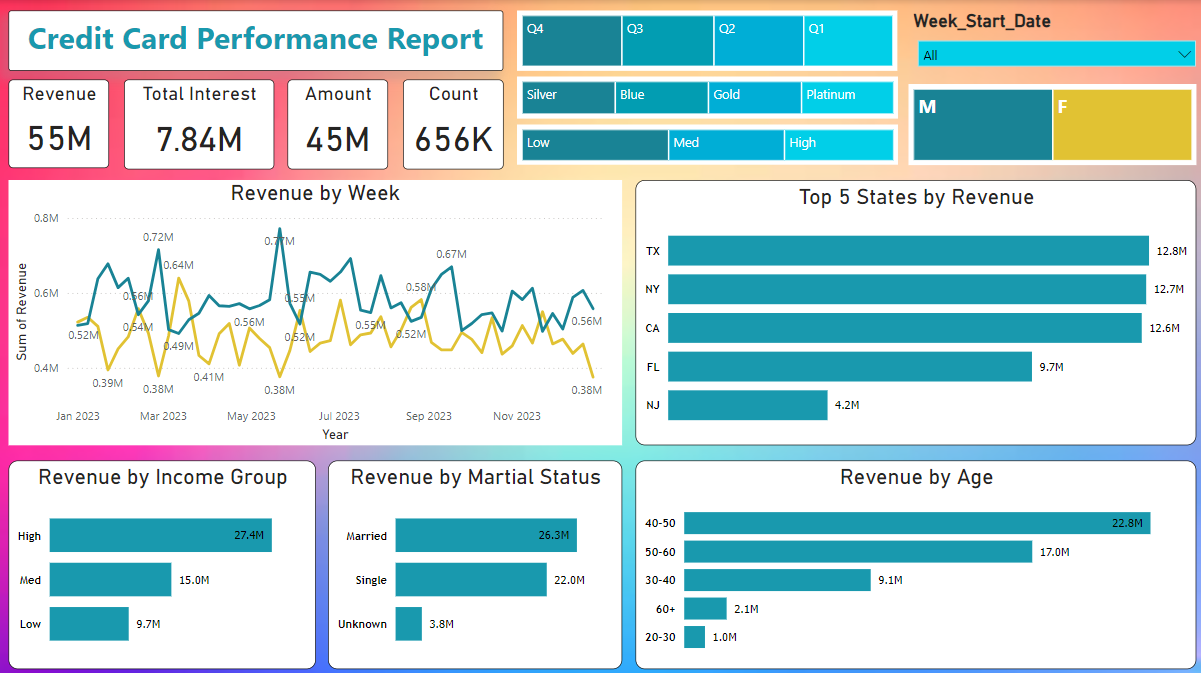

This screenshot's page, from the dashboard's own definition file:
{"tool":"powerbi","page":{"name":"Dashboard 2","canvas":[1280,720],"ordinal":1},"visuals":[{"type":"textbox","box":[11.5,11.5,524.6,63.9],"z":0},{"type":"barChart","title":"Top 5 States by Revenue","fields":{"Category":["cust_details.state_cd"],"Y":["Sum(cc_detail.Revenue)"]},"box":[676,190.9,594.9,281.5],"z":1000},{"type":"treemap","fields":{"Group":["cc_detail.qtr1"],"Values":["Avg(cc_detail.Client_Num)"]},"box":[550.8,11.5,403.3,63.9],"z":2000},{"type":"treemap","fields":{"Values":["Max(cc_detail.Client_Num)"],"Group":["cust_details.Gender"]},"box":[965.5,89.1,305.4,85.9],"z":3000},{"type":"treemap","fields":{"Values":["Avg(cc_detail.Client_Num)"],"Group":["cc_detail.Card_Category"]},"box":[550.4,81.4,404,44.5],"z":4000},{"type":"treemap","fields":{"Values":["Sum(cc_detail.Client_Num)"],"Group":["cust_details.IncomeGroup"]},"box":[550.4,132,404,42.9],"z":5000},{"type":"slicer","title":"Week_Start_Date","fields":{"Values":["cc_detail.Week_Start_Date"]},"box":[965.1,11.1,314.9,63.6],"z":6000},{"type":"lineChart","title":"Revenue by Week","fields":{"Y":["Sum(cc_detail.Revenue)"],"Category":["cc_detail.Week_Start_Date.Variation.Date Hierarchy.Year","cc_detail.Week_Start_Date.Variation.Date Hierarchy.Month","cc_detail.Week_Start_Date.Variation.Date Hierarchy.Day"],"Series":["cust_details.Gender"]},"box":[11.1,190.9,650.6,281.5],"z":7000},{"type":"barChart","title":"Revenue by Income Group","fields":{"Y":["Sum(cc_detail.Revenue)"],"Category":["cust_details.IncomeGroup"]},"box":[11.1,488.3,326.1,221.1],"z":8000},{"type":"barChart","title":"Revenue by Expenditure Type","fields":{"Y":["Sum(cc_detail.Revenue)"],"Category":["cust_details.AgeGroup"]},"box":[676,488.3,594.9,221.1],"z":9000},{"type":"barChart","title":"Revenue by Martial Status","fields":{"Y":["Sum(cc_detail.Revenue)"],"Category":["cust_details.Marital_Status"]},"box":[349.9,488.3,311.8,221.1],"z":10000},{"type":"card","title":"Revenue","fields":{"Values":["Sum(cc_detail.Revenue)"]},"box":[11.1,84.3,106.6,93.8],"z":11000},{"type":"card","title":"Total Interest","fields":{"Values":["Sum(cc_detail.Interest_Earned)"]},"box":[133.1,84.3,159.1,95.4],"z":12000},{"type":"card","title":"Amount","fields":{"Values":["Sum(cc_detail.Total_Trans_Amt)"]},"box":[307.5,84.3,106.6,95.4],"z":13000},{"type":"card","title":"Count","fields":{"Values":["Sum(cc_detail.Total_Trans_Vol)"]},"box":[429.5,84.3,106.6,95.4],"z":14000}]}

Visuals, with their boxes in screenshot pixels (x1, y1, x2, y2), scaled from the page's 1280x720 canvas onto the 1201x673 screenshot:
textbox: 11, 11, 503, 70
"Top 5 States by Revenue" barChart: 634, 178, 1192, 442
treemap - cc_detail.qtr1 x Avg(cc_detail.Client_Num): 517, 11, 895, 70
treemap - Max(cc_detail.Client_Num) x cust_details.Gender: 906, 83, 1192, 164
treemap - Avg(cc_detail.Client_Num) x cc_detail.Card_Category: 516, 76, 895, 118
treemap - Sum(cc_detail.Client_Num) x cust_details.IncomeGroup: 516, 123, 895, 163
"Week_Start_Date" slicer: 906, 10, 1200, 70
"Revenue by Week" lineChart: 10, 178, 621, 442
"Revenue by Income Group" barChart: 10, 456, 316, 663
"Revenue by Expenditure Type" barChart: 634, 456, 1192, 663
"Revenue by Martial Status" barChart: 328, 456, 621, 663
"Revenue" card: 10, 79, 110, 166
"Total Interest" card: 125, 79, 274, 168
"Amount" card: 289, 79, 389, 168
"Count" card: 403, 79, 503, 168
